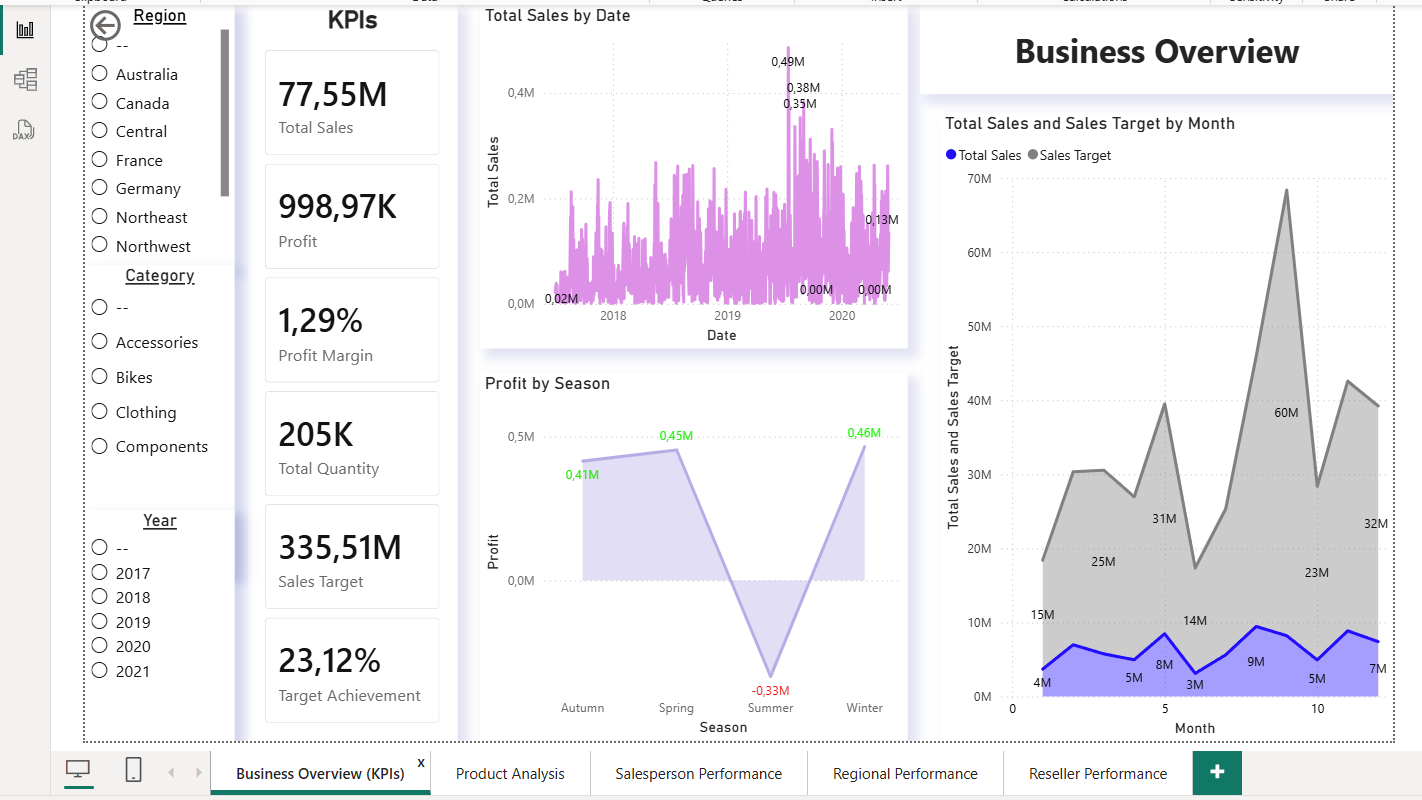

The page's visual inventory and layout, read from the dashboard file:
{"tool":"powerbi","page":{"name":"Business Overview (KPIs)","canvas":[1280,720],"ordinal":0},"visuals":[{"type":"cardVisual","title":"KPIs","fields":{"Data":["FactSales.Total Sales","FactSales.Profit","FactSales.Profit Margin","FactSales.Total Quantity","FactSales.Sales Target (until May 31 2020)","FactTargets.Target Achievement %"]},"box":[159.3,0,205.8,719.8],"z":0},{"type":"lineChart","fields":{"Y":["FactSales.Total Sales"],"Category":["DimDate.Date","DimDate.Date Hierarchy.Day","DimDate.Date Hierarchy.Month","DimDate.Date Hierarchy.Quarter","DimDate.Date Hierarchy.Year","DimDate.Date Hierarchy.Season"]},"box":[386.4,0,418.2,336.3],"z":1000},{"type":"lineChart","fields":{"Category":["DimDate.Date","DimDate.Date Hierarchy.Day","DimDate.Date Hierarchy.Month","DimDate.Date Hierarchy.Quarter","DimDate.Date Hierarchy.Year","DimDate.Date Hierarchy.Season"],"Y":["FactSales.Profit"]},"box":[386,360,418.2,360],"z":2000},{"type":"stackedAreaChart","fields":{"Category":["DimDate.Month"],"Y":["FactSales.Total Sales","FactSales.Sales Target"]},"box":[836.4,105.2,443.9,615.1],"z":3000},{"type":"listSlicer","fields":{"Values":["DimRegion.Region"]},"box":[0,0,146.7,254.3],"z":4000},{"type":"actionButton","box":[0,0,100,40],"z":5000},{"type":"listSlicer","fields":{"Values":["DimProduct.Category"]},"box":[0,254.3,146.7,300.8],"z":6000},{"type":"listSlicer","fields":{"Values":["DimDate.Year"]},"box":[0,494,146.7,226.2],"z":7000},{"type":"textbox","box":[816.9,0,463.5,86.8],"z":8000}]}

Visuals, with their boxes on the page's 1280x720 design canvas (x1, y1, x2, y2). These are canvas units, not pixel positions in the 1422x800 screenshot, which may show the page scaled, cropped or inside an application window:
"KPIs" cardVisual: (159,0,365,720)
lineChart - FactSales.Total Sales x DimDate.Date: (386,0,805,336)
lineChart - DimDate.Date x DimDate.Date Hierarchy.Day: (386,360,804,720)
stackedAreaChart - DimDate.Month x FactSales.Total Sales: (836,105,1280,720)
listSlicer - DimRegion.Region: (0,0,147,254)
actionButton: (0,0,100,40)
listSlicer - DimProduct.Category: (0,254,147,555)
listSlicer - DimDate.Year: (0,494,147,720)
textbox: (817,0,1280,87)
